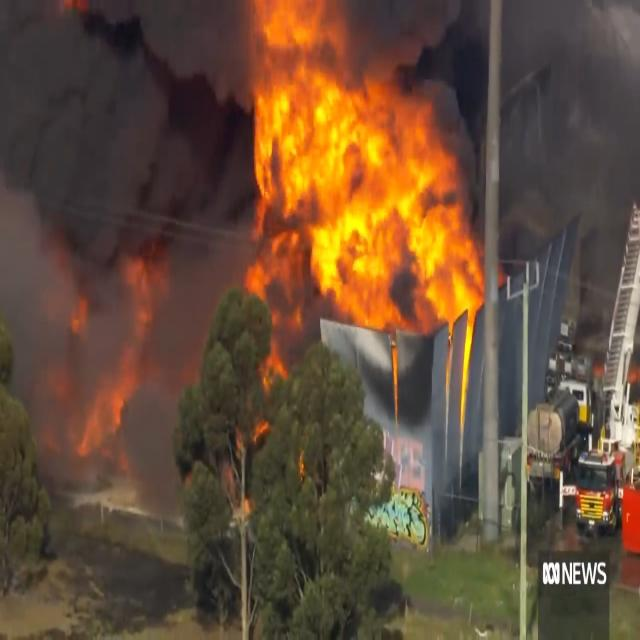fire: (248, 0, 508, 399), (44, 244, 172, 482)
